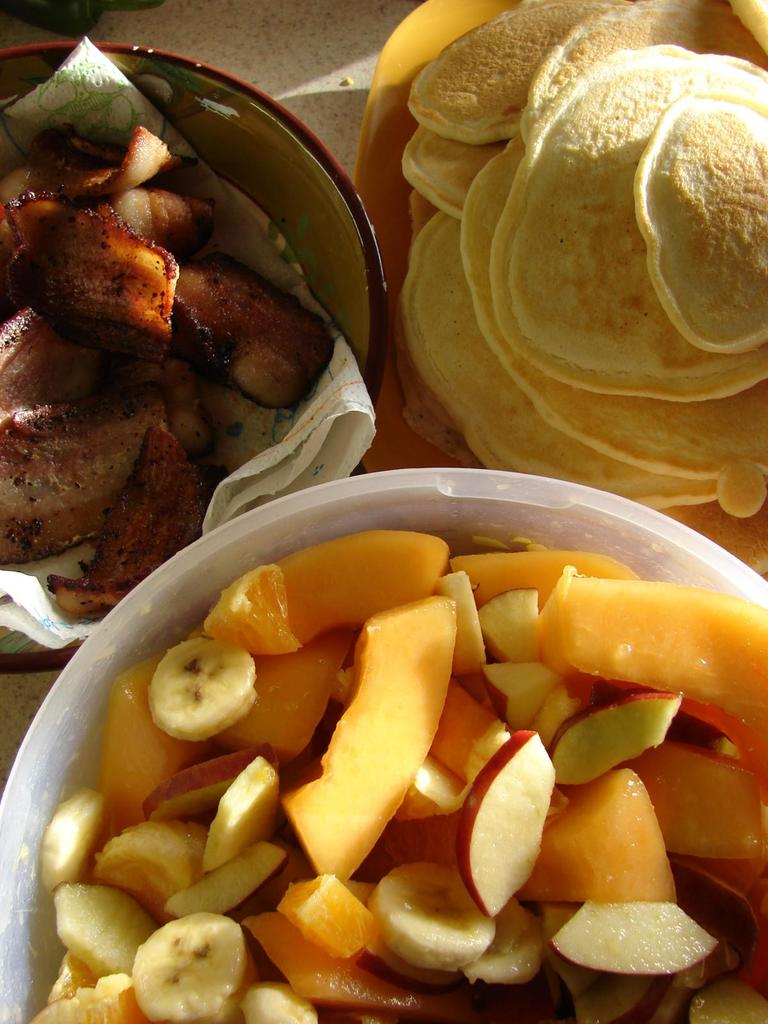Apple: (457, 725, 555, 921), (543, 686, 679, 788), (130, 912, 252, 1024), (550, 900, 725, 974), (138, 746, 282, 819), (165, 837, 293, 915), (55, 886, 161, 974), (202, 753, 279, 869), (439, 571, 490, 681), (476, 588, 541, 666), (480, 662, 555, 725), (576, 974, 669, 1023), (688, 977, 767, 1023)
